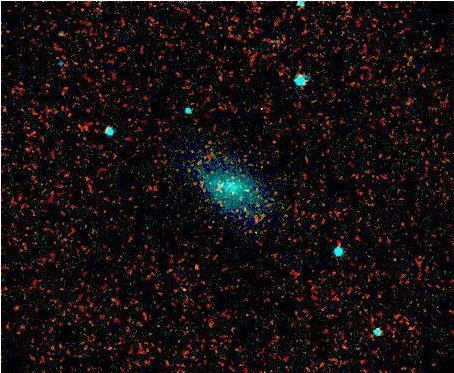star: (182, 253, 212, 283)
